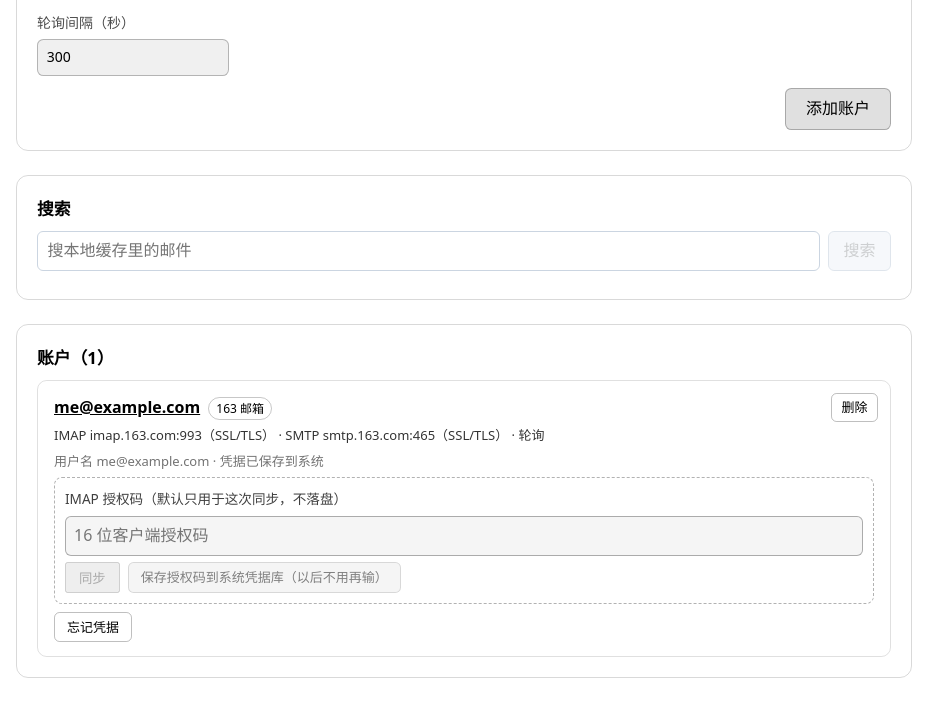
Scenario: 写信界面 › 界面上一直说明密送不会显示在收件人列表里
This screenshot has width=929, height=717.
(page scrolled)
Click the button "me@example.com". click: (127, 407)
box: [54,395,200,420]
(page scrolled)
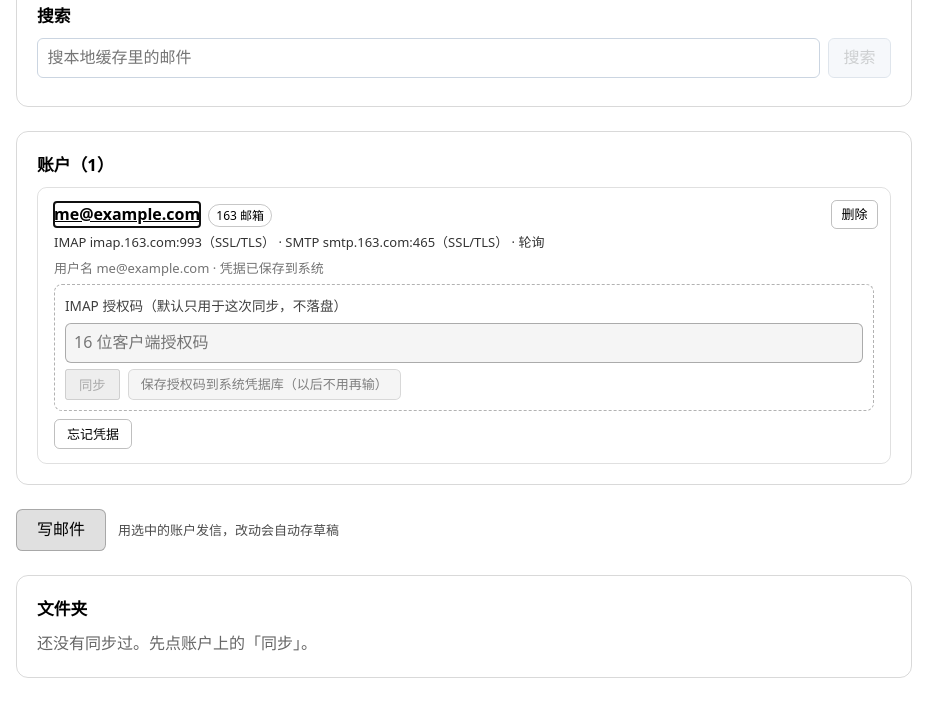
Click the button "写邮件". click: (61, 530)
box: [16,509,106,551]
(page scrolled)
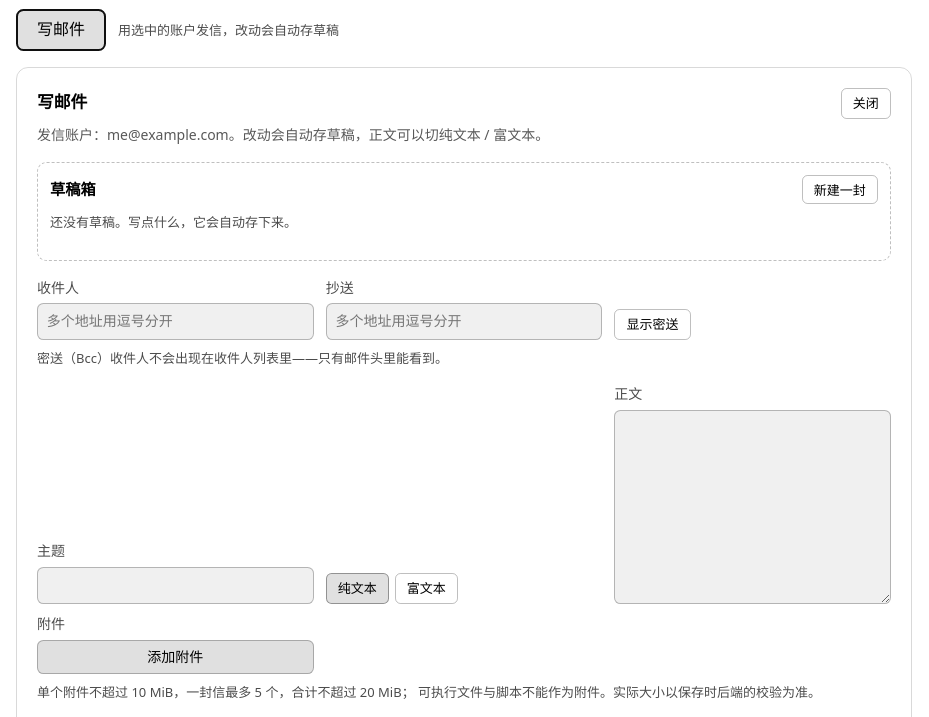
Expected: the text "密送（Bcc）收件人不会出现在收件人列表里——只有邮件头里能看到。" is shown, [37,349,448,367]
